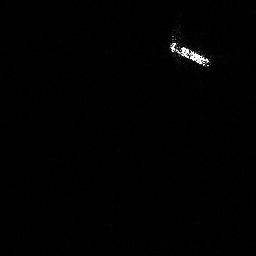ship: (169, 35, 211, 69)
